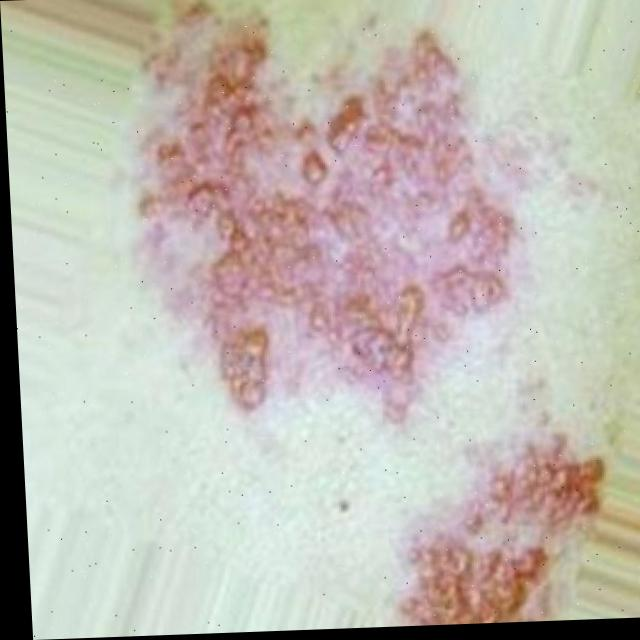Shingles: (148, 13, 530, 388), (411, 442, 590, 626)
